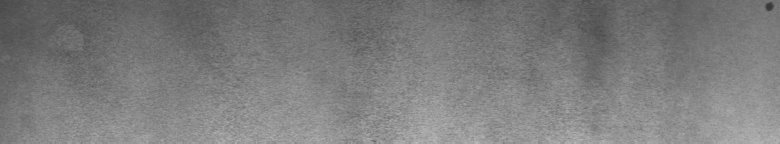fi: (761, 4, 776, 16)
